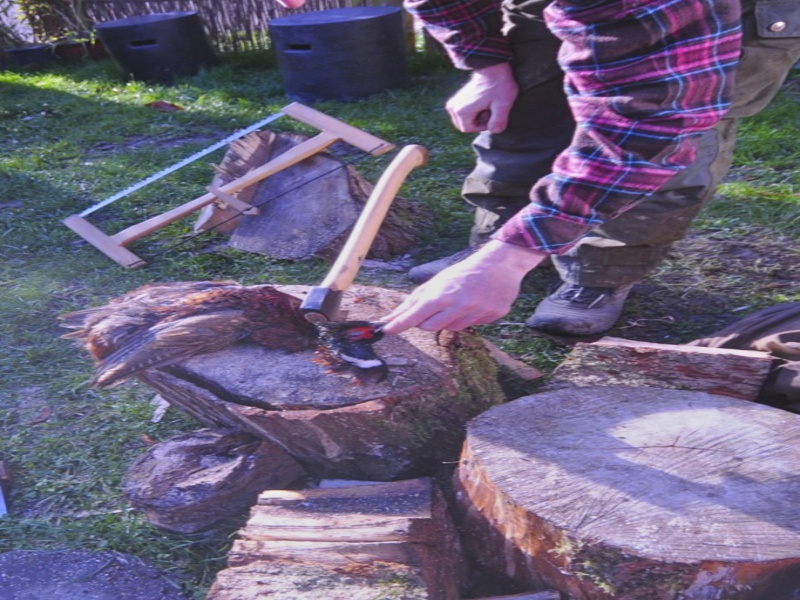axe: (289, 258, 393, 391)
